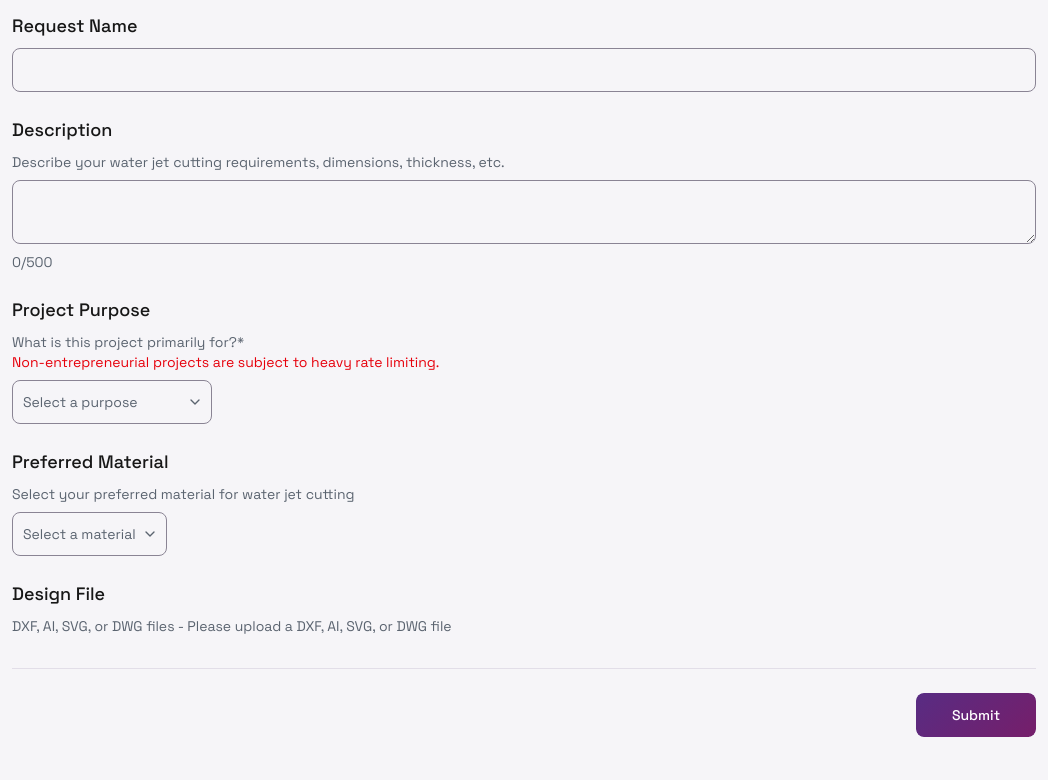
Test case: WaterJetForm Integration › field validation › shows error for short description
Type "A" into the text box labelled "Description" at (524, 212), box top-left (12, 180), bottom-right (1036, 244)
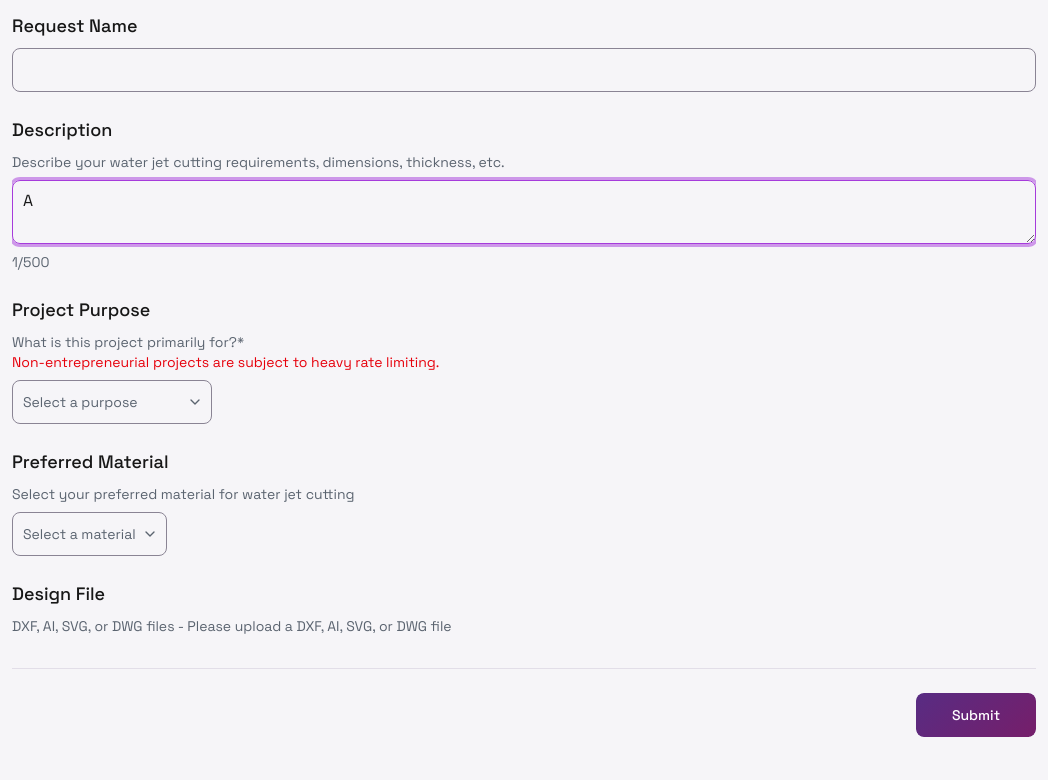
Click the button "Submit" at (976, 715), box top-left (916, 693), bottom-right (1036, 737)
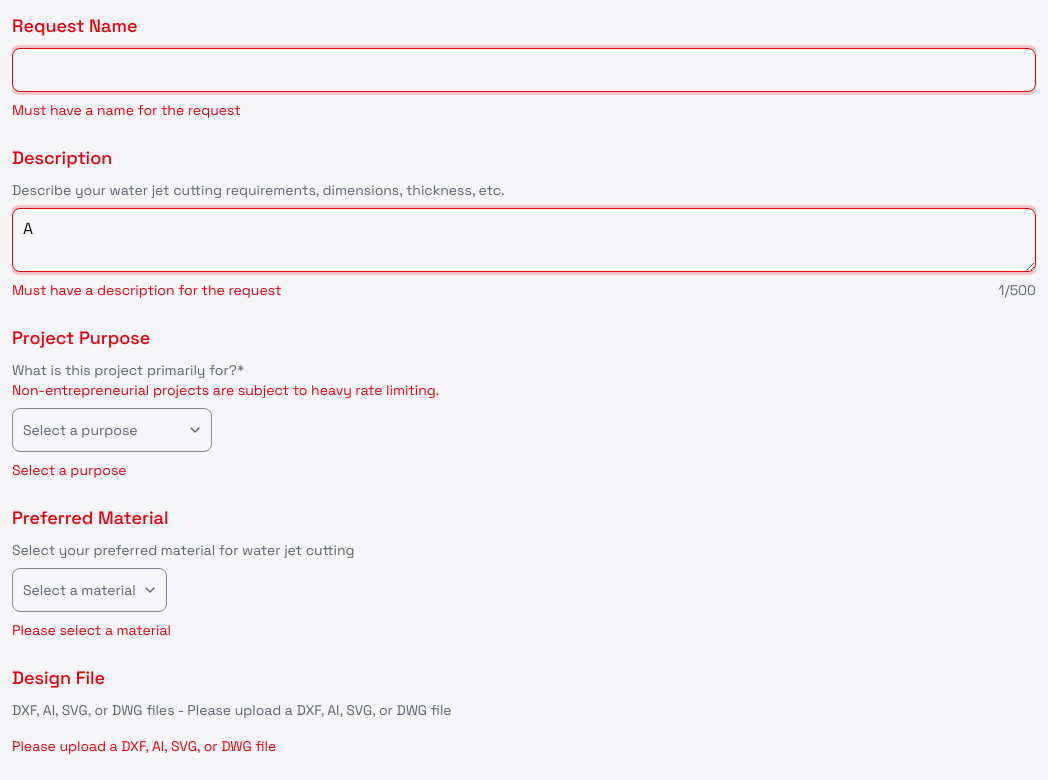
Expected: the text "Must have a description for the request" is shown, top-left (12, 280), bottom-right (281, 300)
